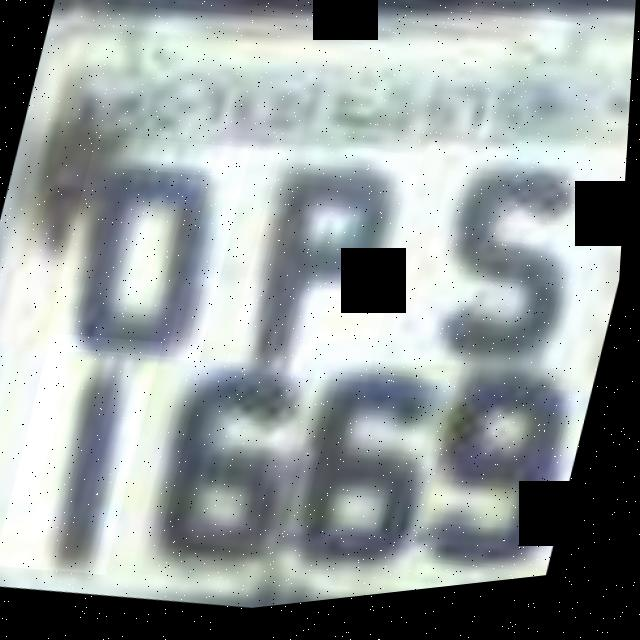1: (0, 325, 168, 589)
6: (109, 328, 326, 605), (250, 347, 462, 616)
9: (389, 363, 586, 603)
O: (47, 124, 256, 380)
P: (228, 138, 427, 405)
S: (403, 167, 608, 411)
